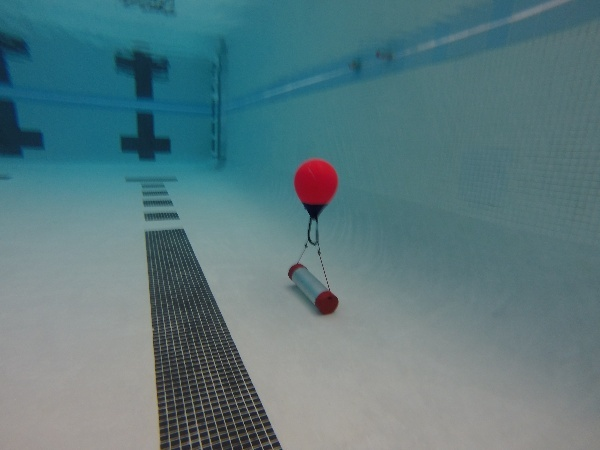buoy_red: (292, 158, 340, 221)
